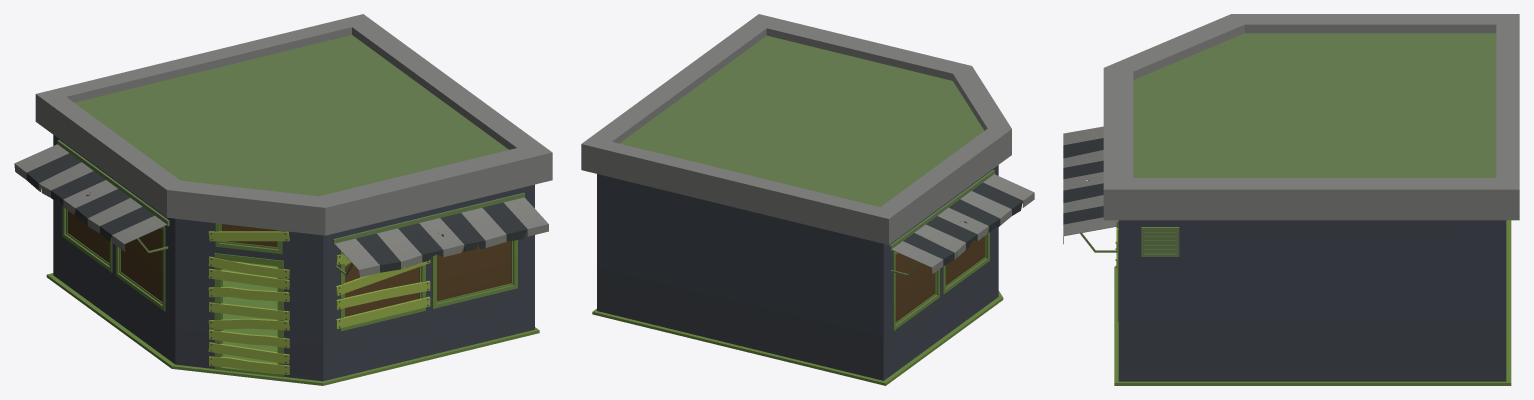
Rendered from OldHouse_10.fbx.
3 views of the same model, side by side, from view 1: azimuth 30°, elevation 25°; view 2: azimuth 150°, elevation 25°; view 3: azimuth 270°, elevation 25° (orthographic). The views are drawn at different scales.
Visible parts, largest first — view 1: OldHouse_10; view 2: OldHouse_10; view 3: OldHouse_10.
Boxes of the visible parts, x1,y1,x2,y2 form: OldHouse_10: [14, 14, 552, 385]; OldHouse_10: [581, 14, 1034, 385]; OldHouse_10: [1063, 14, 1519, 385].
Size of the model in its own units: 7.1 by 3.42 by 7.06.
